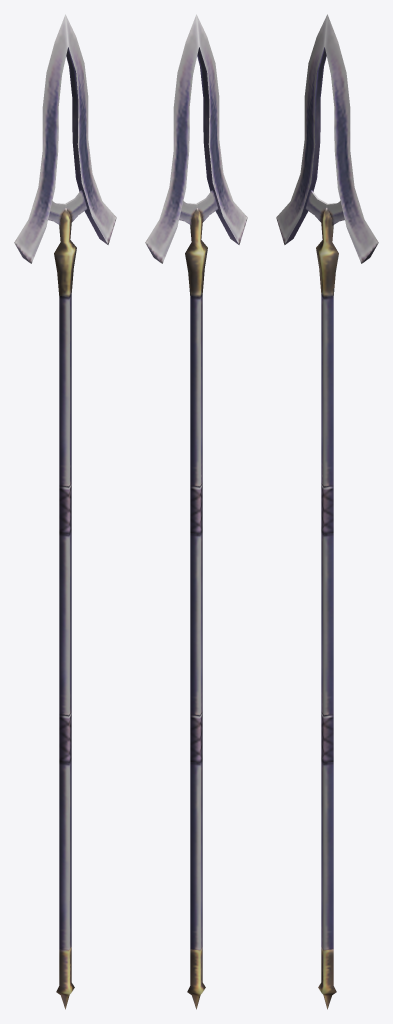
The model's file is Polearm13.FBX.
3 renders of one model, left to right at view 1: azimuth 30°, elevation 25°; view 2: azimuth 210°, elevation 25°; view 3: azimuth 330°, elevation 25°, orthographic.
Parts seen in each view (by area): view 1: Polearm13; view 2: Polearm13; view 3: Polearm13.
Part boxes in pixels (<box>): Polearm13: <box>14,14,116,1009</box>; Polearm13: <box>145,14,247,1009</box>; Polearm13: <box>276,14,378,1009</box>.
Bounding box in the file's own units: 28.48 × 264 × 6.4.
